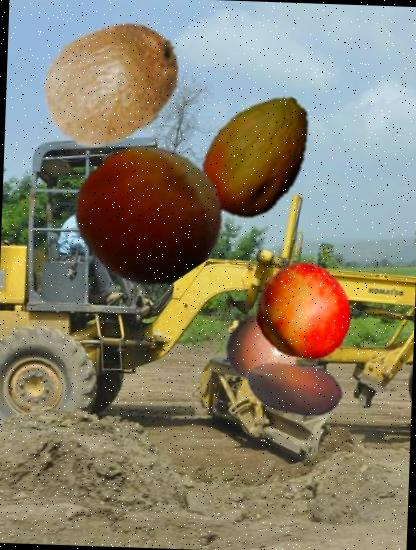Granadilla: (221, 289, 326, 394)
Hazelnut: (244, 338, 344, 438)
Kiwi: (36, 6, 189, 159)
Nectarine: (253, 262, 355, 364)
Nut: (74, 140, 223, 288)
Papaya: (186, 85, 328, 227)
